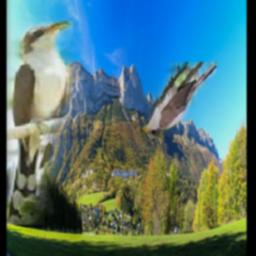Cuckoo: (7, 22, 73, 226), (142, 62, 218, 139)
